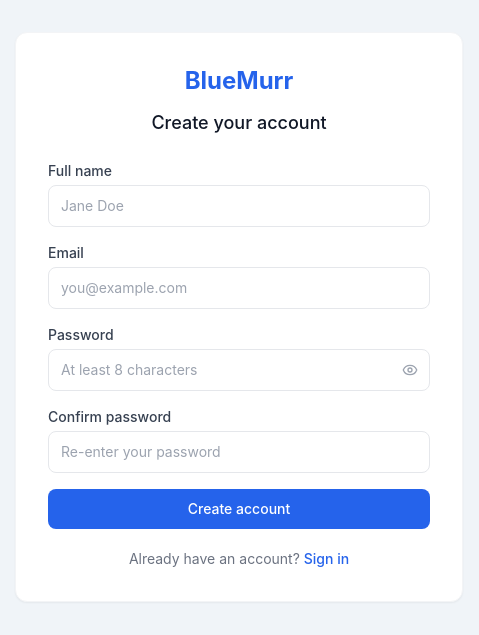
Test case: Signup page › shows password strength: weak/medium/strong
Type "short" into the password field with placeholder "At least 8 characters".
click(239, 370); type("short")  # box [48,349,430,391]
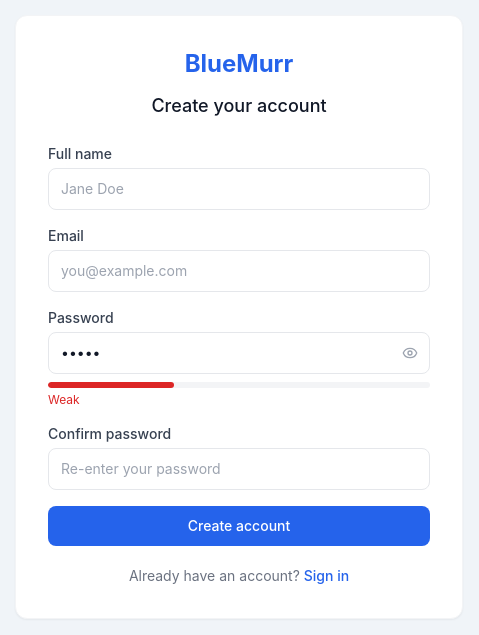
Check: the text "Weak" is shown, box [48,392,80,407]
Type "password1" into the password field with placeholder "At least 8 characters".
click(239, 353); type("password1")  # box [48,332,430,374]
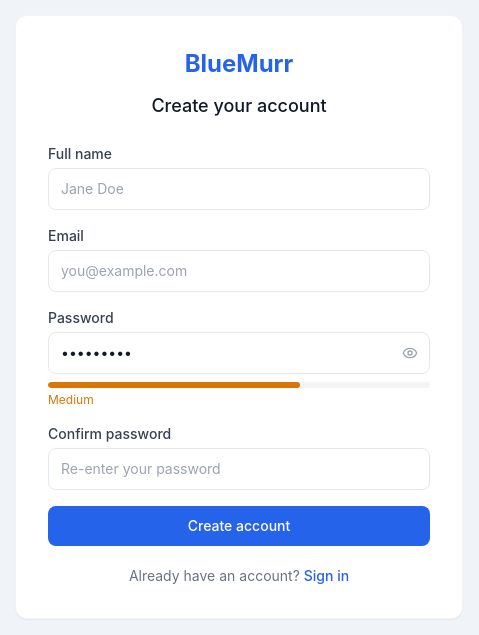
Check: the text "Medium" is shown, box [48,392,94,407]
Type "password1!" into the password field with placeholder "At least 8 characters".
click(239, 353); type("password1!")  # box [48,332,430,374]
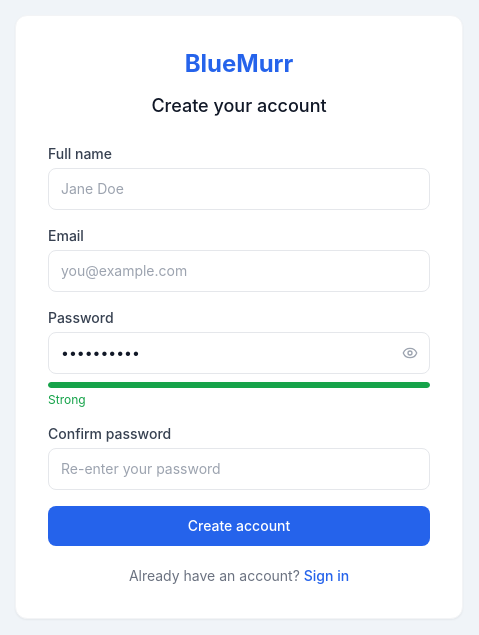
Check: the text "Strong" is shown, box [48,392,86,407]
